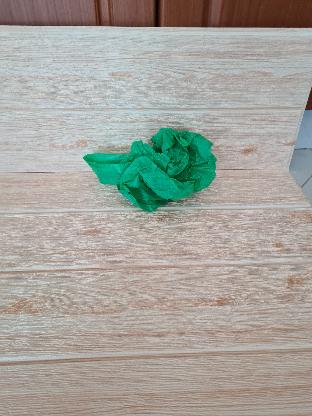Plastic Bag: (78, 123, 218, 211)
